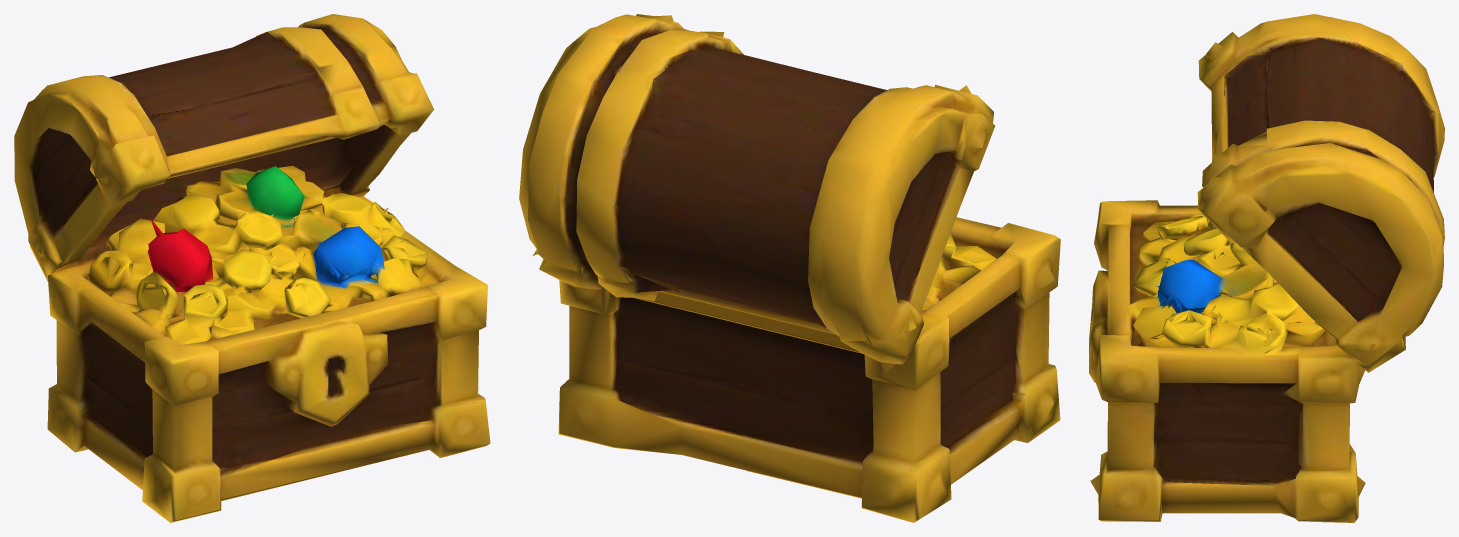
Rendered from chest.glb.
3 renders of one model, left to right at view 1: azimuth 30°, elevation 25°; view 2: azimuth 150°, elevation 25°; view 3: azimuth 270°, elevation 25°, orthographic. The views are drawn at different scales.
Visible parts, largest first — view 1: tripo_node_5c5b3fa0-a659-4237-8682-daa59b88ae8d; view 2: tripo_node_5c5b3fa0-a659-4237-8682-daa59b88ae8d; view 3: tripo_node_5c5b3fa0-a659-4237-8682-daa59b88ae8d.
Part boxes in pixels (<box>): tripo_node_5c5b3fa0-a659-4237-8682-daa59b88ae8d: <box>14,14,490,522</box>; tripo_node_5c5b3fa0-a659-4237-8682-daa59b88ae8d: <box>519,14,1060,522</box>; tripo_node_5c5b3fa0-a659-4237-8682-daa59b88ae8d: <box>1089,14,1444,522</box>.
Size of the model in its own units: 0.9677 by 0.9785 by 0.879.
Materials: 1 (1 with a texture image).
